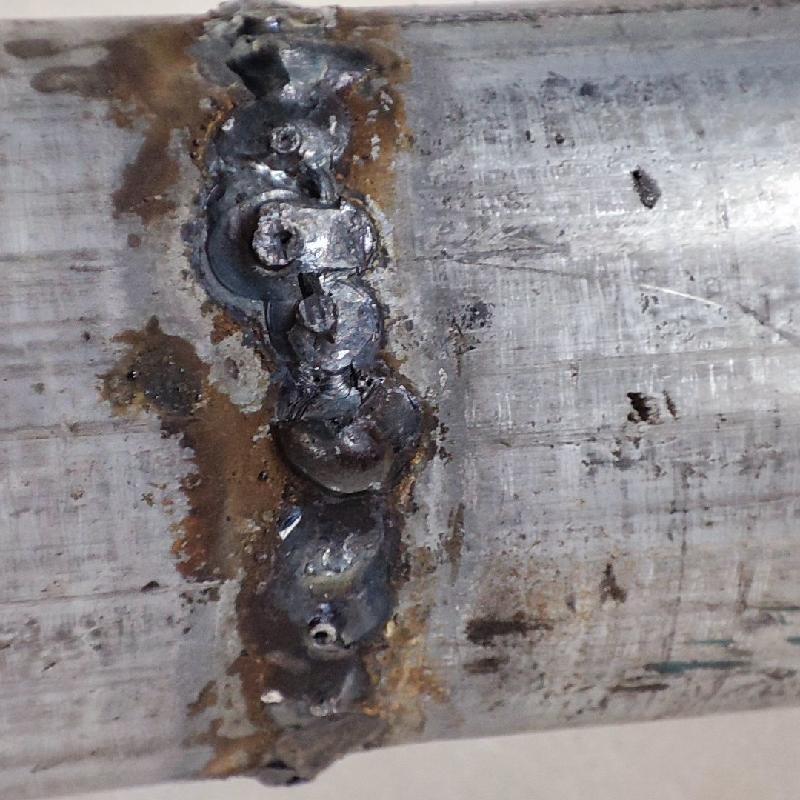Surface_pores: (243, 217, 314, 265), (304, 613, 340, 653)
Weld: (282, 410, 398, 496)
wrong_size: (189, 3, 423, 771)
